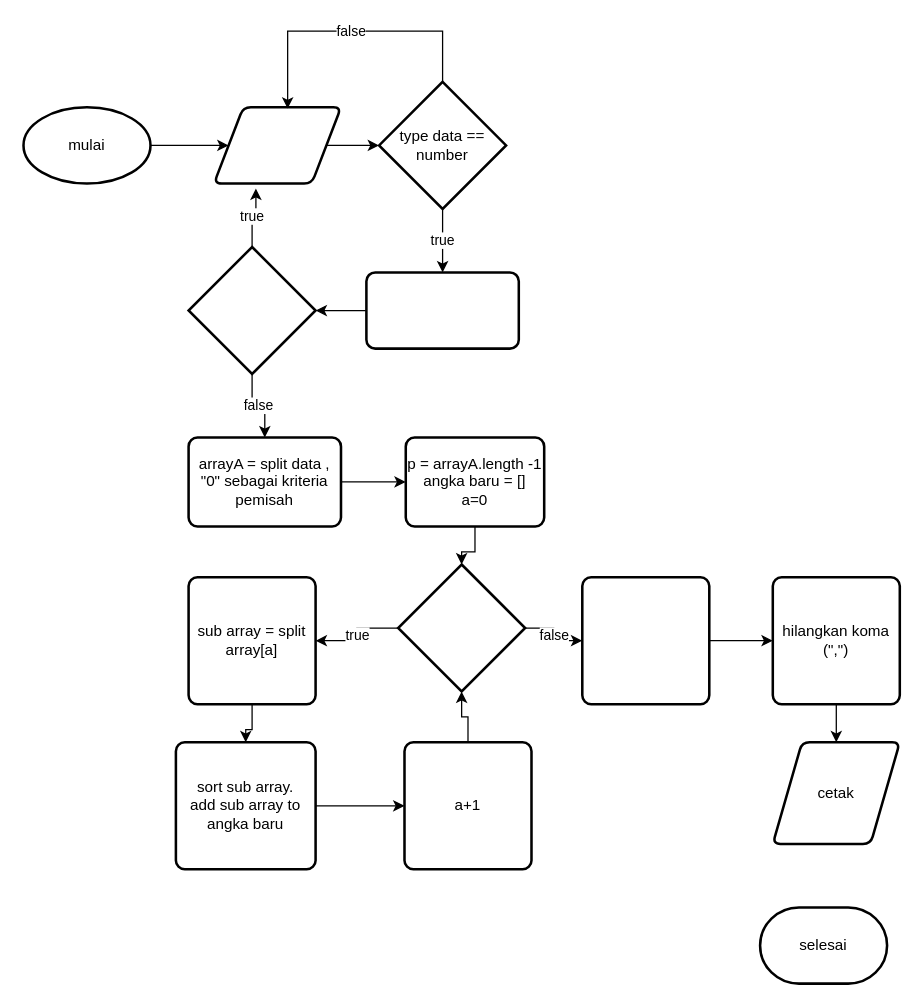
This 922x1007 diagram has some shape labels left out. Each missing label, with the centre of its shape:
a<=p: pixel 461 627
data.length < 2 karakter: pixel 251 310
input data: pixel 277 144
ubah angka baru menjadi string: pixel 645 640
ubah data menjadi string: pixel 441 310
